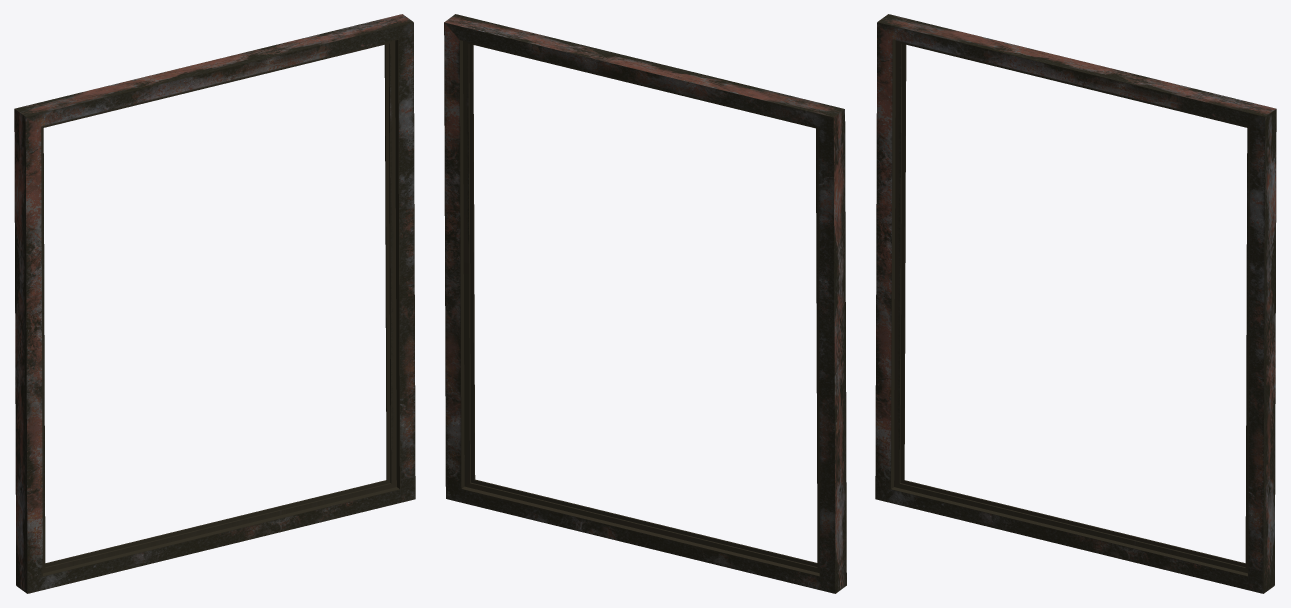
3 renders of one model, left to right at view 1: azimuth 30°, elevation 25°; view 2: azimuth 150°, elevation 25°; view 3: azimuth 330°, elevation 25°, orthographic.
Visible parts, largest first — view 1: 2; view 2: 2; view 3: 2.
Part boxes in pixels (x1,y1,x2,y2): 2: (14,14,415,593); 2: (444,14,846,593); 2: (875,14,1276,593).
Size of the model in its own units: 0.5737 by 0.6724 by 0.0334.
1 material, 1 textured.
